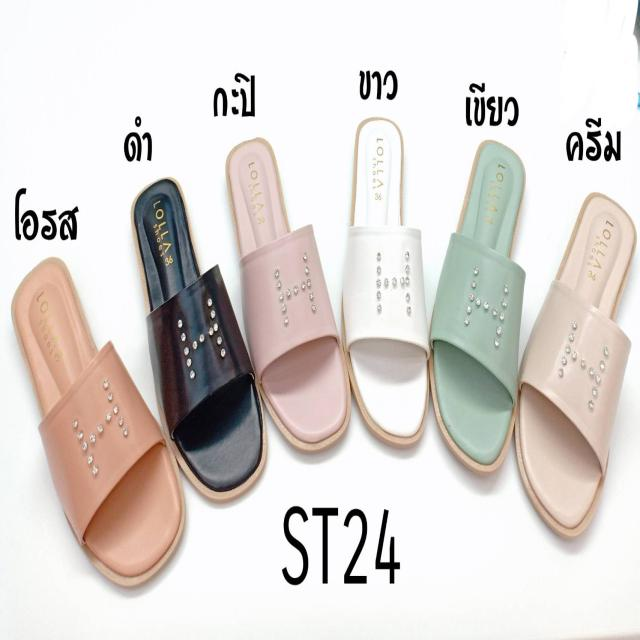black: (135, 188, 261, 492)
cream: (516, 192, 632, 526)
green: (430, 140, 527, 469)
kapi: (229, 135, 345, 444)
orot: (15, 258, 182, 578)
white: (349, 123, 429, 440)
